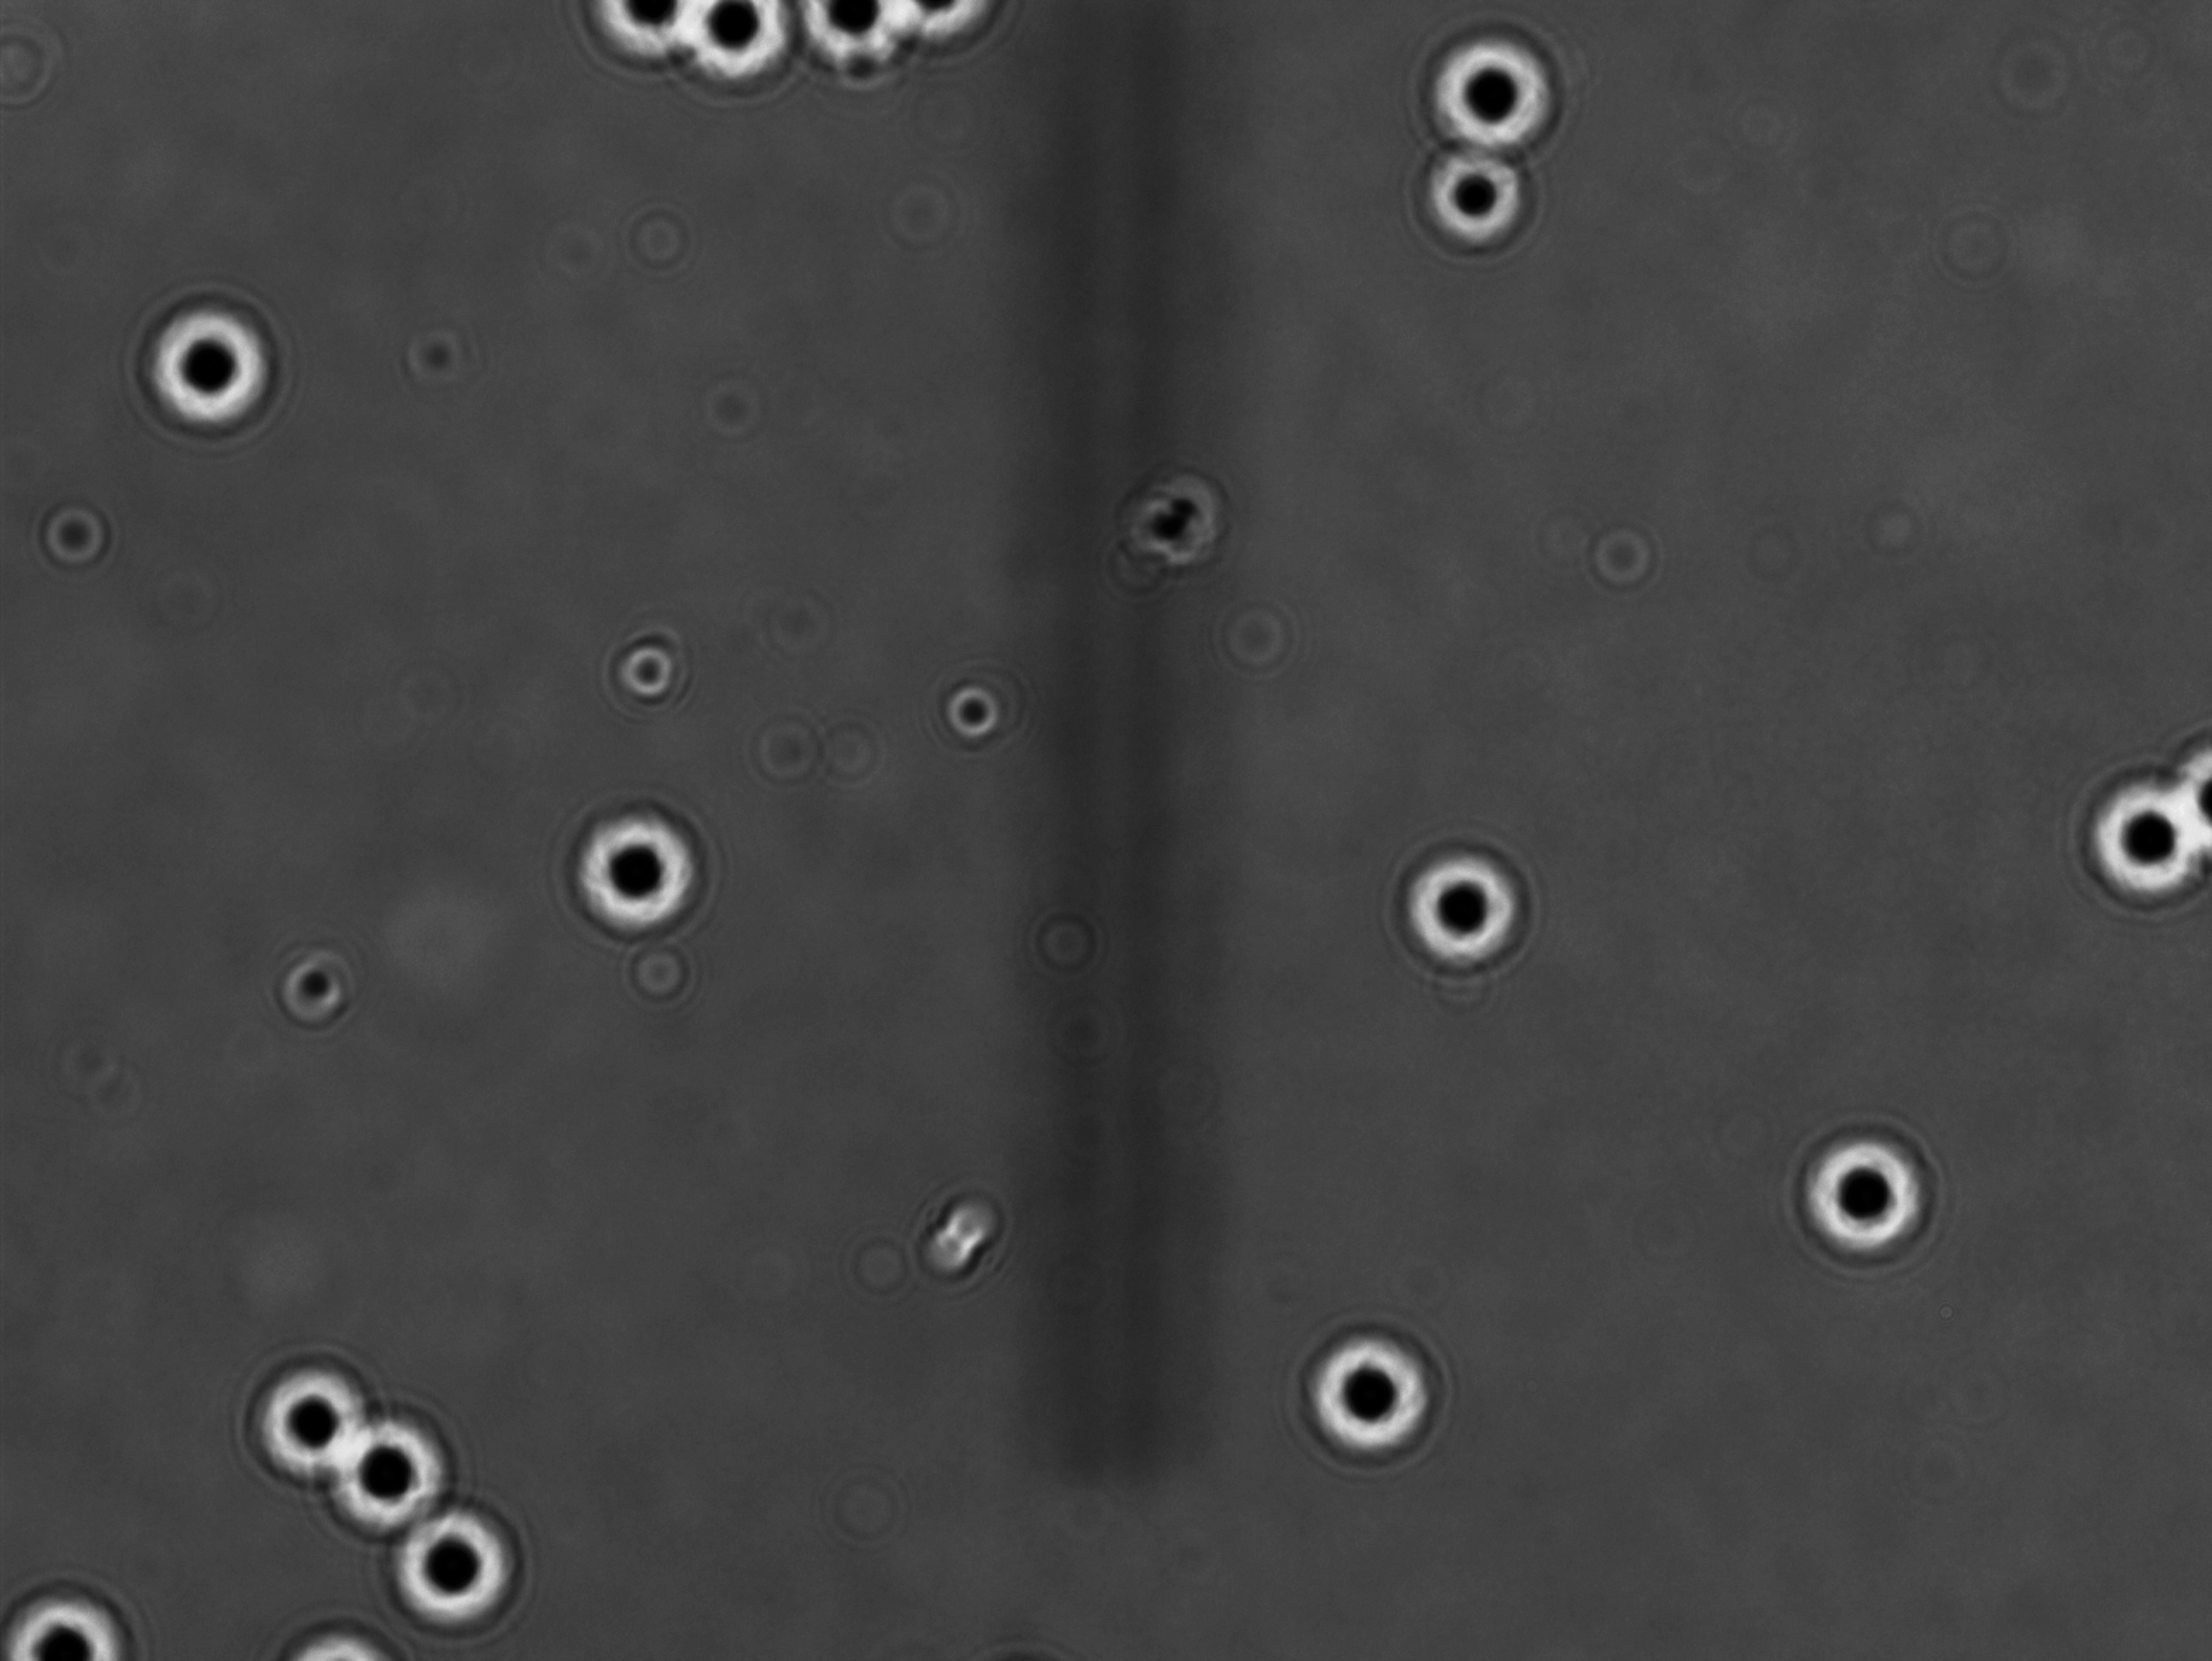depth:-20: (1783, 1106, 1964, 1281), (1293, 1302, 1465, 1467), (550, 789, 724, 951), (1382, 829, 1547, 988), (126, 288, 283, 448), (382, 1494, 536, 1638), (239, 1349, 387, 1488), (317, 1413, 461, 1542)
